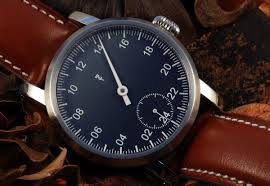clock: (56, 23, 191, 158)
